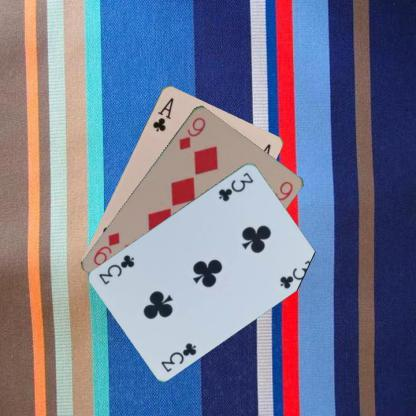3c: (158, 339, 198, 373), (215, 170, 255, 202)
9d: (176, 114, 207, 151)
Ac: (150, 94, 175, 133)
